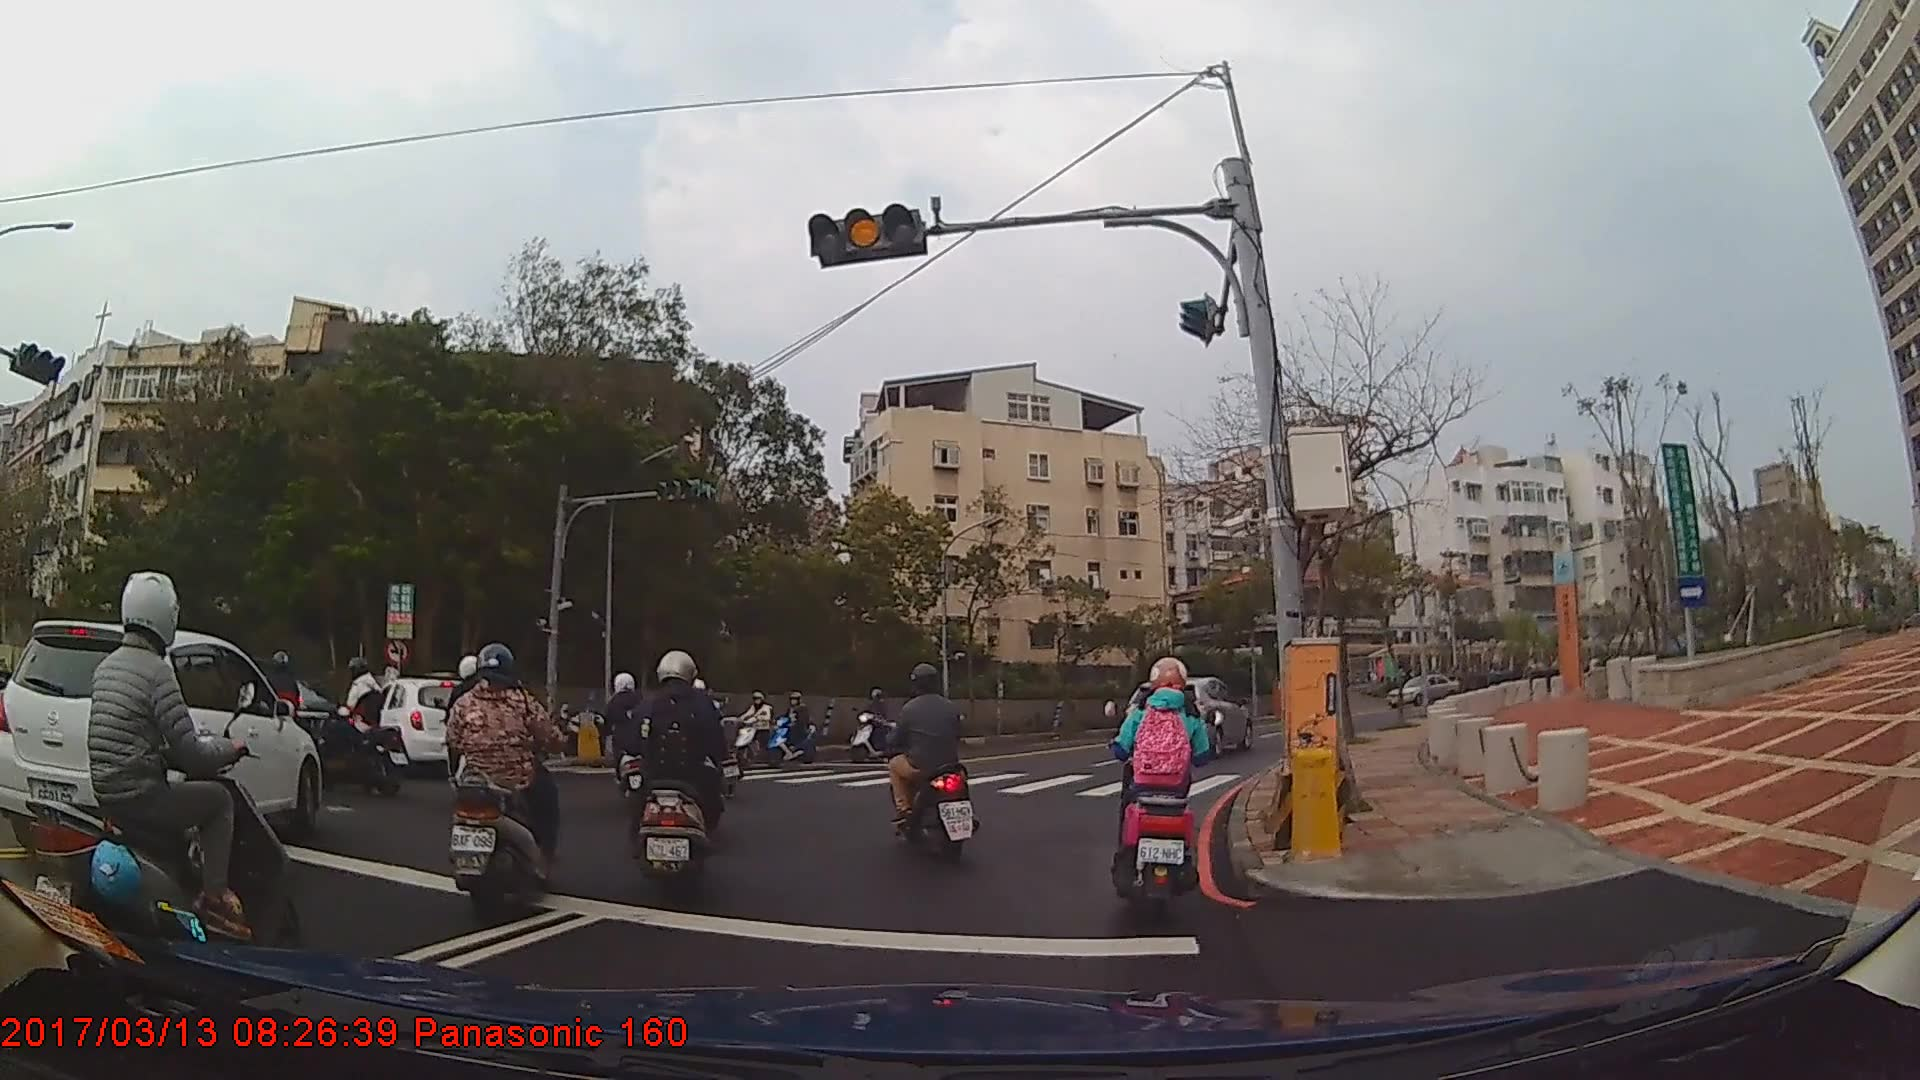rider: (20, 572, 303, 997), (444, 643, 567, 922), (1116, 655, 1221, 918), (625, 650, 731, 902), (882, 659, 975, 861), (587, 672, 666, 818), (322, 657, 391, 790), (245, 649, 310, 784), (848, 691, 901, 768), (772, 690, 818, 766), (738, 688, 780, 765)
vehicle: (0, 618, 321, 861), (344, 676, 482, 775), (1127, 677, 1252, 761), (1386, 670, 1456, 707)
